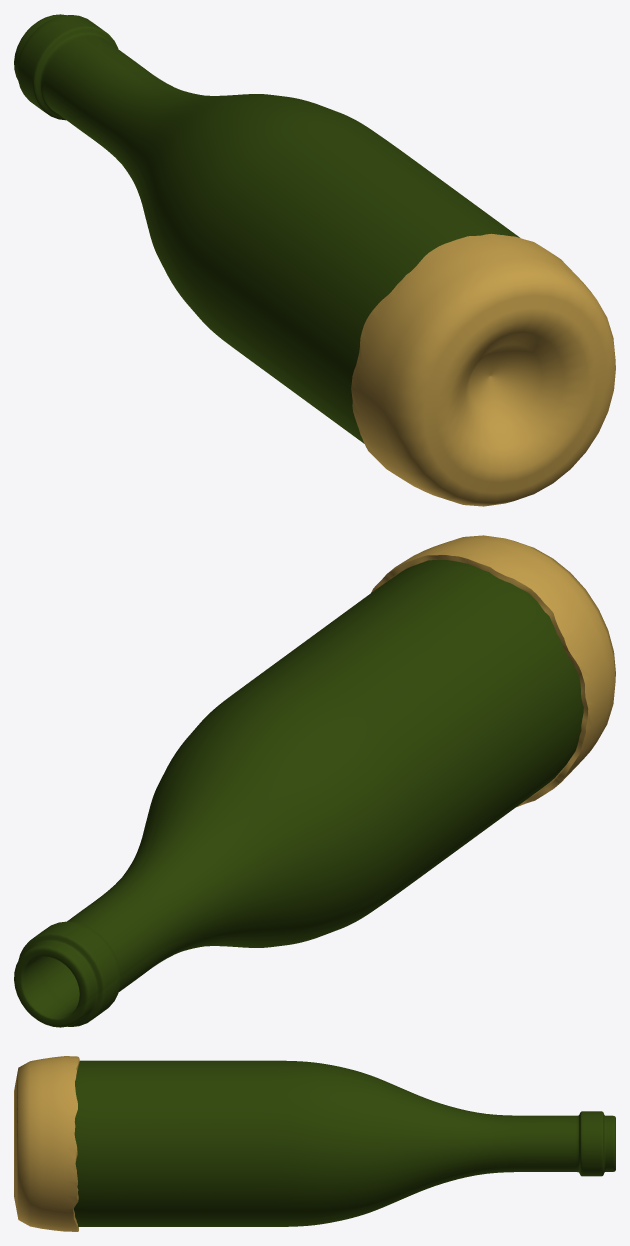
3 renders of one model, top to bottom at view 1: azimuth 30°, elevation 25°; view 2: azimuth 150°, elevation 25°; view 3: azimuth 270°, elevation 25°, orthographic. The views are drawn at different scales.
Visible parts, largest first — view 1: imagetostl_mesh9, Base; view 2: imagetostl_mesh9, Base; view 3: imagetostl_mesh9, Base.
Boxes of the visible parts, x1,y1,x2,y2 form: imagetostl_mesh9: (14,14,519,443); Base: (351,233,615,506); imagetostl_mesh9: (14,560,583,1027); Base: (371,535,615,806); imagetostl_mesh9: (74,1060,615,1226); Base: (14,1056,79,1231).
Bounding box in the file's own units: 0.7062 × 0.7062 × 2.41.
